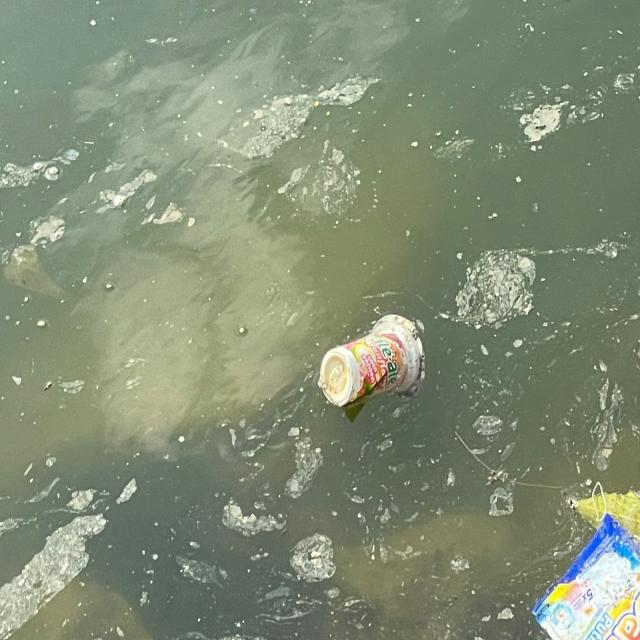Bungkus Minuman: (321, 311, 430, 418)
